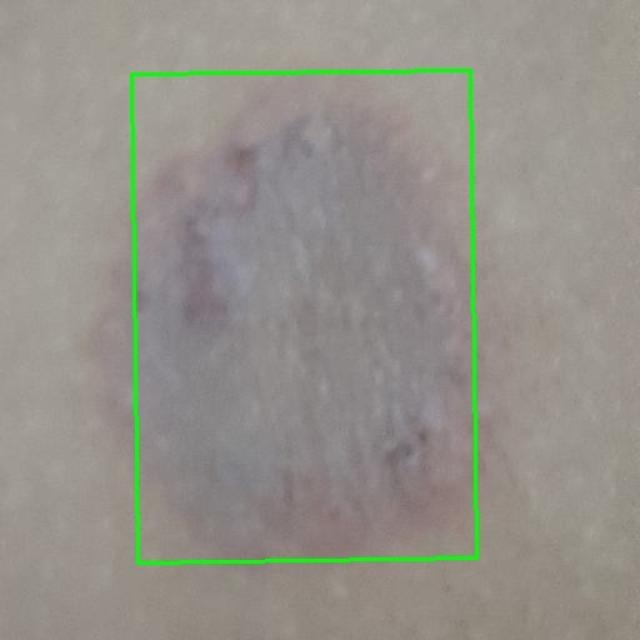Eczema: (132, 70, 477, 563)
